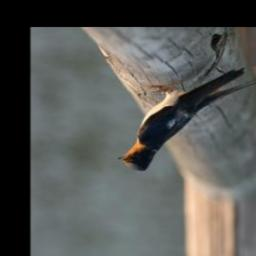Swallow: (113, 67, 256, 177)
